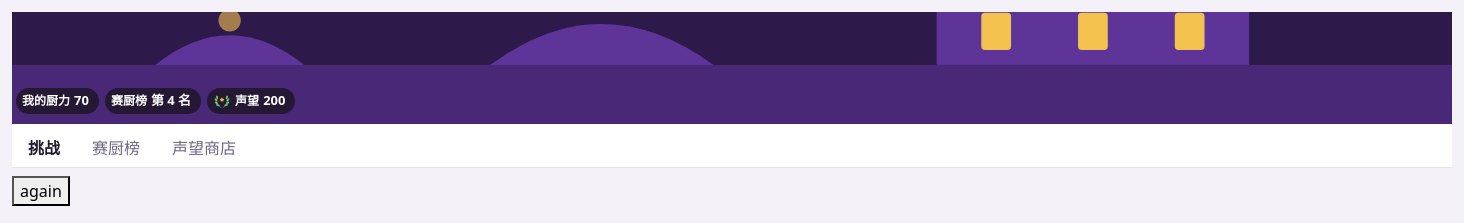
Test: TowerView › 厨塔面板要求刷新时重新读取
The width and height of the screenshot is (1464, 223).
Click the button with test id "again" at (41, 191), box [12, 176, 70, 206]
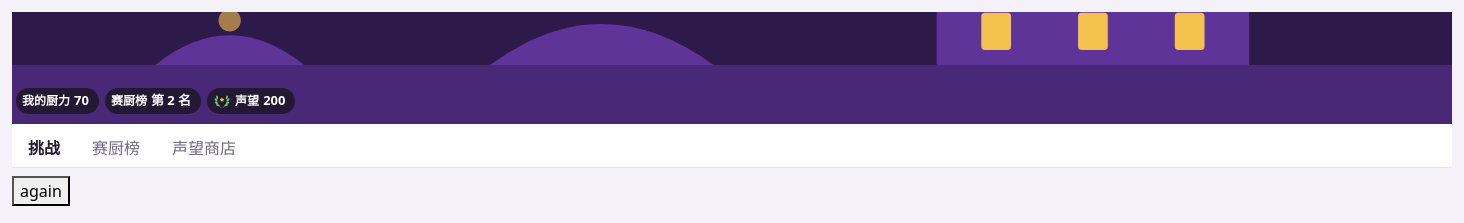
Check: the element with test id "tower-rank" reads "赛厨榜 第 2 名", box [105, 88, 201, 114]
